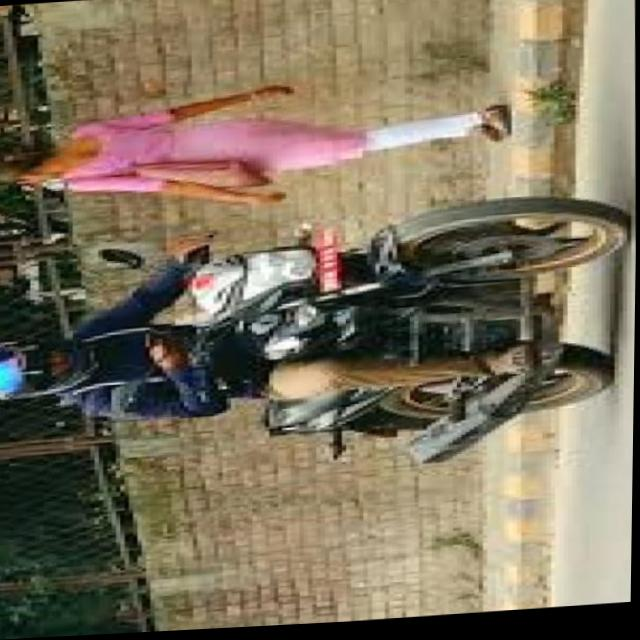USING_MOBILE: (0, 326, 216, 431)
